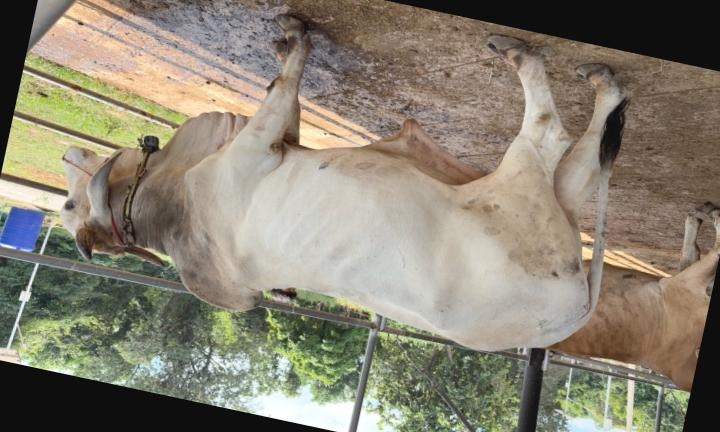Brahman: (62, 16, 627, 351)
